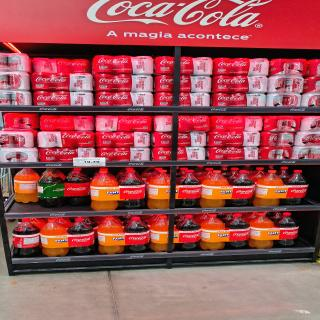beverage: (12, 218, 42, 256), (40, 219, 70, 257), (150, 170, 178, 210), (124, 216, 153, 252), (92, 170, 118, 210), (260, 170, 287, 208), (64, 168, 90, 207), (37, 172, 65, 208), (69, 218, 96, 255), (120, 170, 145, 209), (99, 217, 124, 255), (12, 169, 38, 204), (250, 213, 275, 249), (181, 170, 204, 208), (286, 169, 310, 205), (178, 214, 202, 250), (276, 213, 301, 247), (207, 170, 229, 208), (227, 214, 250, 249), (202, 214, 224, 250), (232, 170, 250, 207), (8, 53, 31, 72), (9, 72, 31, 91), (190, 114, 211, 132), (32, 72, 52, 90), (71, 73, 91, 91), (212, 57, 232, 75), (250, 58, 270, 76), (94, 115, 115, 132), (72, 91, 95, 106), (11, 91, 34, 106), (74, 115, 94, 132), (132, 115, 152, 132), (75, 131, 96, 147), (70, 58, 91, 74), (289, 58, 307, 76), (56, 131, 75, 148), (115, 115, 134, 132), (52, 90, 71, 107), (131, 132, 152, 147), (38, 130, 56, 147), (232, 58, 250, 75), (95, 131, 114, 147), (52, 74, 71, 90), (267, 76, 286, 92), (112, 131, 130, 147), (154, 116, 172, 132), (286, 76, 302, 94), (57, 115, 74, 131), (40, 115, 58, 130), (34, 58, 52, 73), (34, 91, 52, 106), (52, 58, 69, 73), (307, 58, 320, 77), (305, 76, 320, 92), (302, 93, 320, 106), (285, 93, 302, 106)
